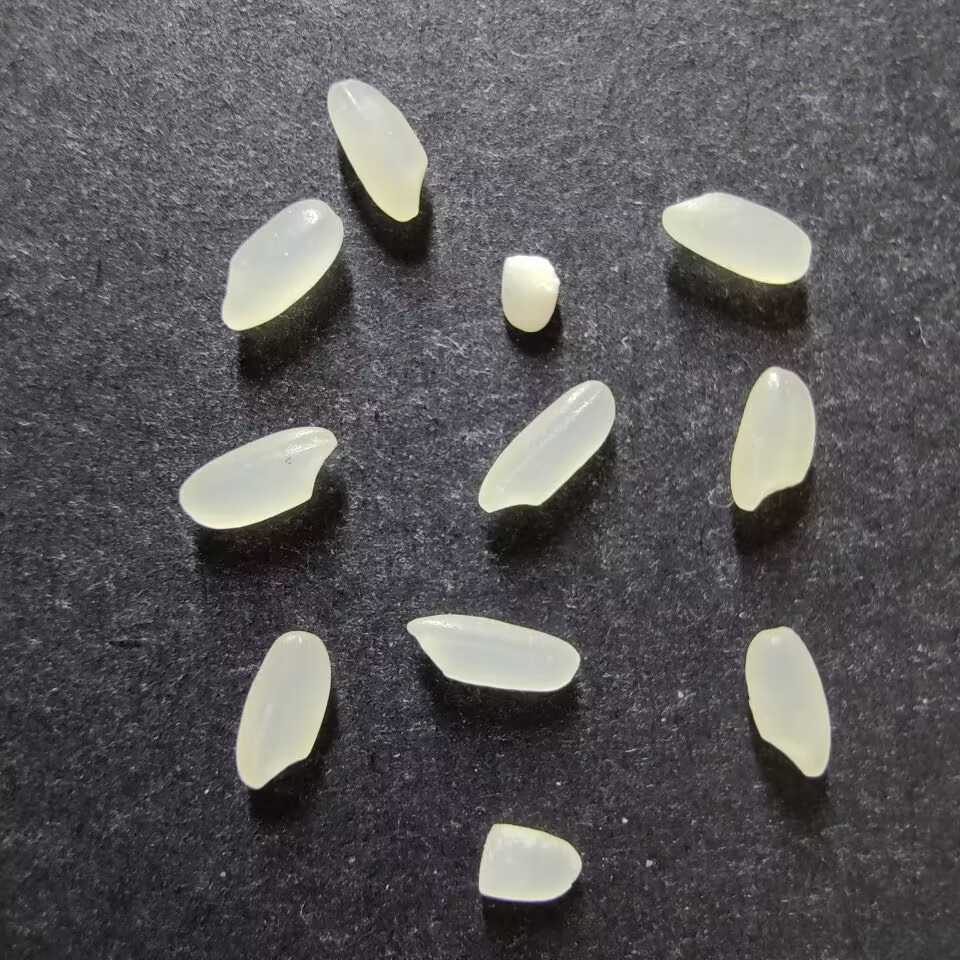broken: (477, 823, 581, 902), (500, 254, 560, 332)
rice: (477, 379, 615, 513), (178, 425, 337, 530), (220, 197, 343, 331), (235, 630, 330, 790), (326, 78, 428, 223), (661, 191, 811, 285), (405, 613, 580, 692), (744, 626, 831, 778), (729, 366, 816, 512)
